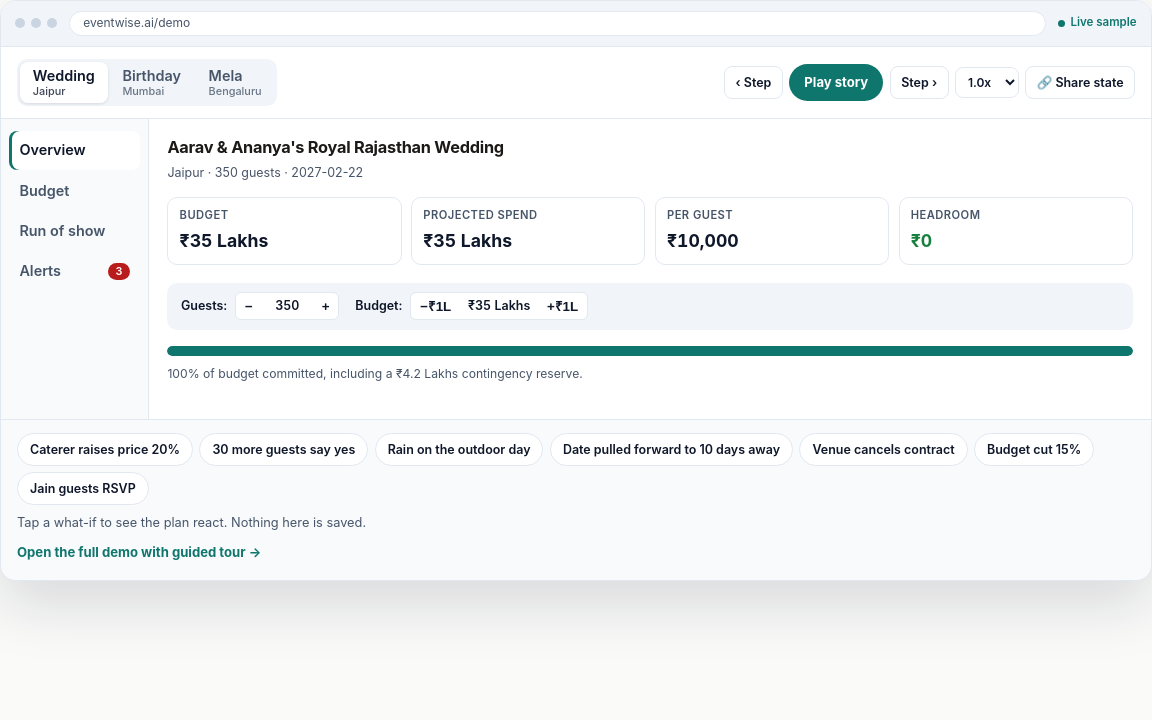
Test: LiveDemoWindow › applies a what-if, shows the delta, and undoes it
Check: the text "vs. original plan" is not shown
Click the button "Caterer raises price 20%".
click(105, 449)  # box [17,433,193,466]
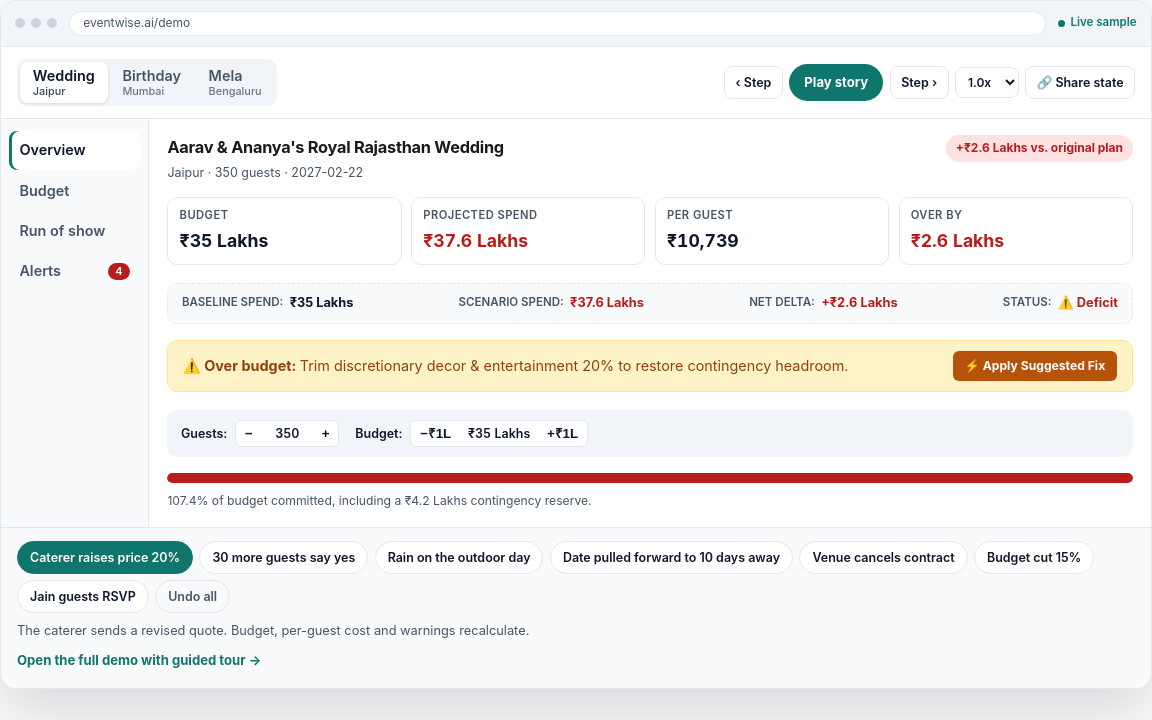
Check: the text "+₹2.6 Lakhs vs. original plan" is shown, box [946,135,1133,162]
Click the button "Undo all".
click(193, 596)  # box [155,580,230,612]
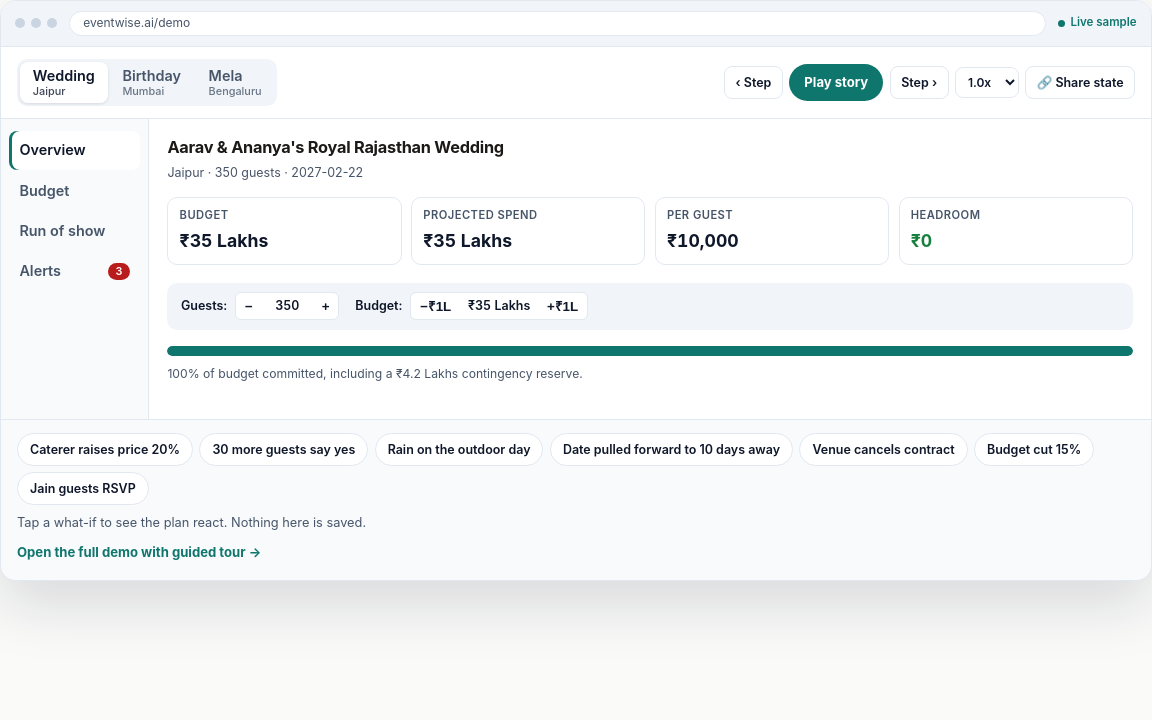
Check: the text "vs. original plan" is gone
